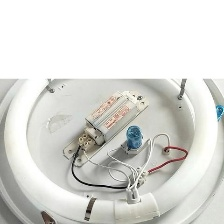light_bulb: (0, 50, 220, 223)
